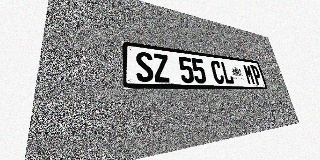5: (178, 56, 195, 83), (191, 58, 207, 83)
C: (210, 60, 225, 84)
L: (220, 61, 235, 84)
M: (242, 64, 256, 85)
P: (250, 65, 263, 85)
S: (135, 51, 154, 82)
Z: (152, 53, 171, 83)
